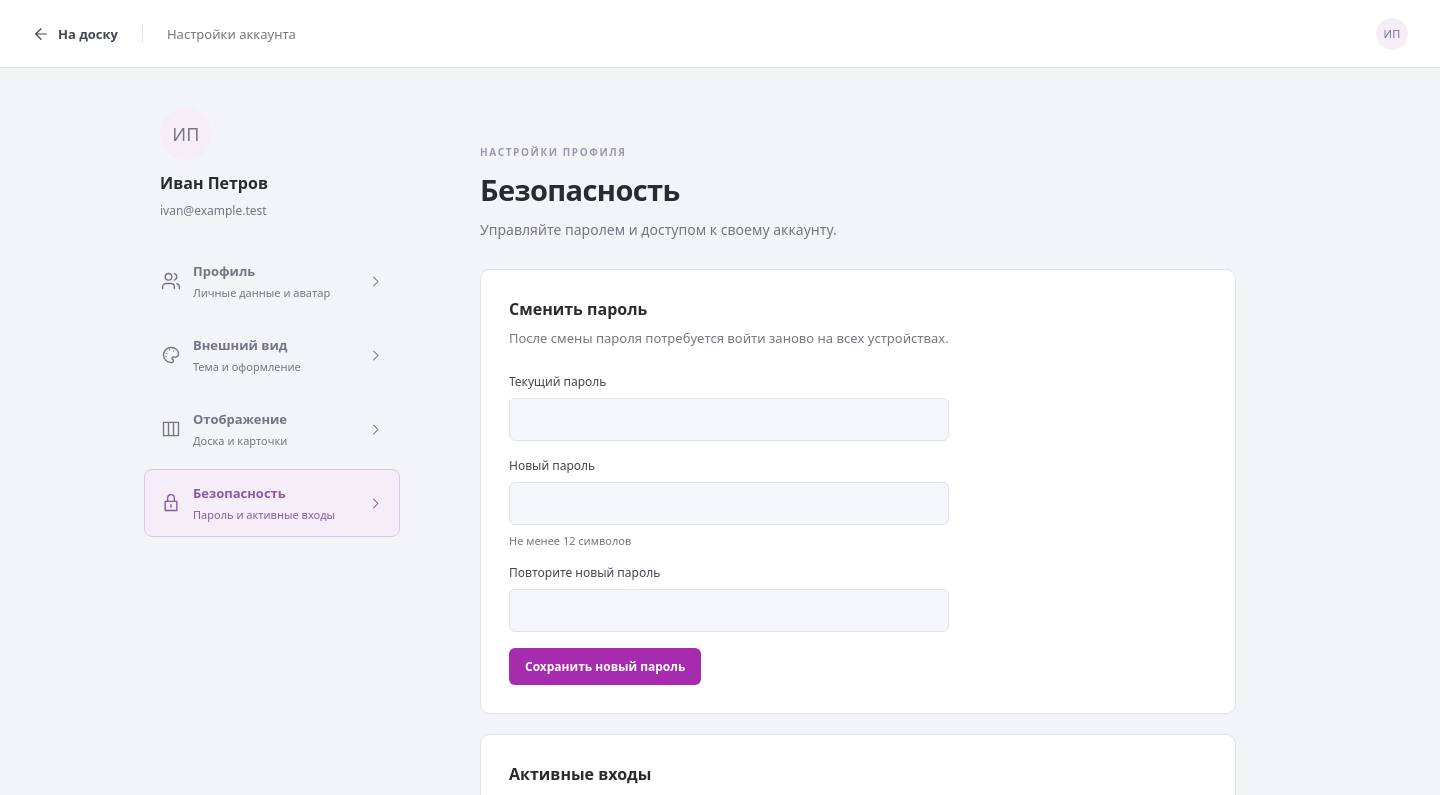
validates password confirmation before submitting the existing password API
The width and height of the screenshot is (1440, 795).
Type "current-password" into the password field labelled "Текущий пароль" at {"x": 729, "y": 420}, box [509, 398, 949, 441]
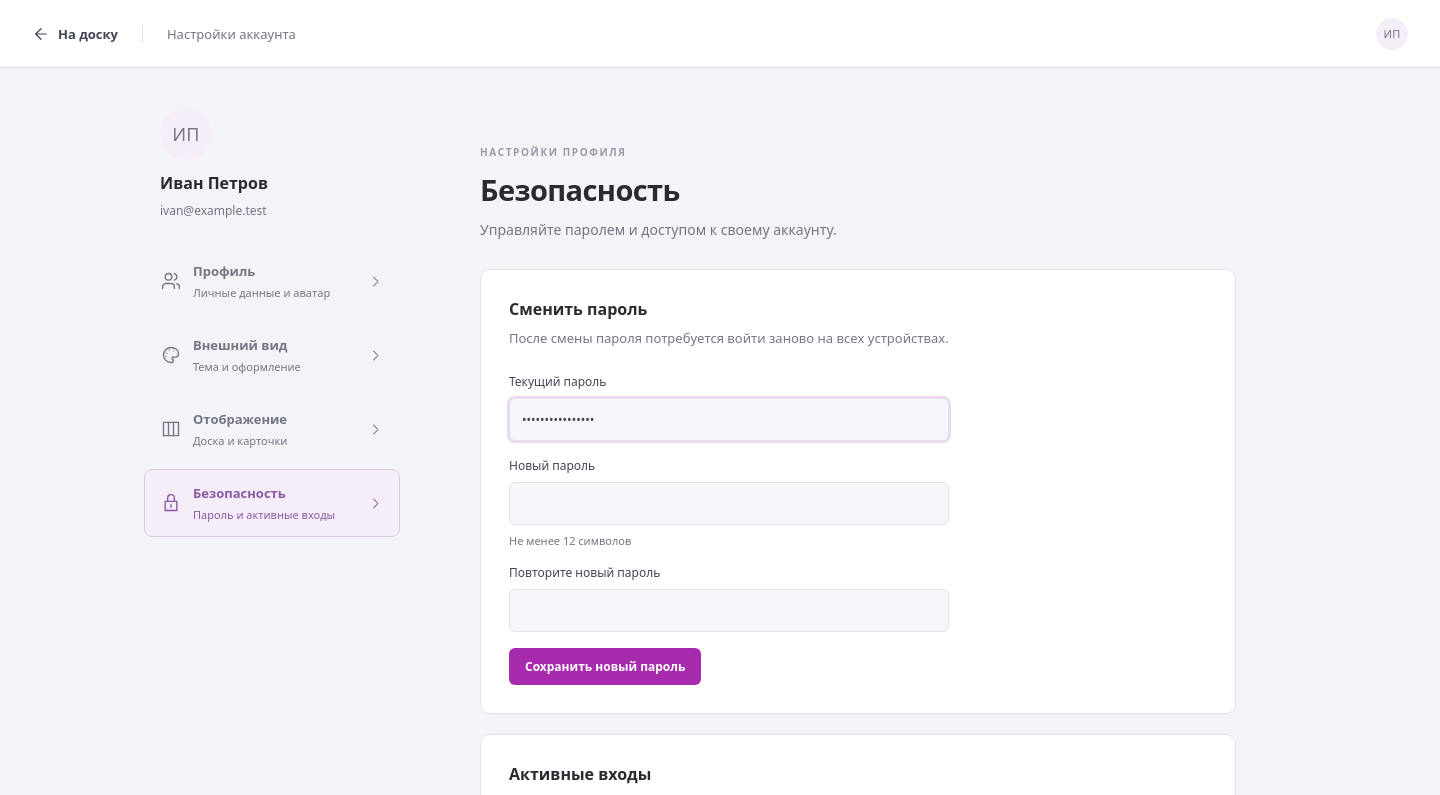
Type "new-password-123" into the password field labelled "Новый пароль" at {"x": 729, "y": 504}, box [509, 482, 949, 525]
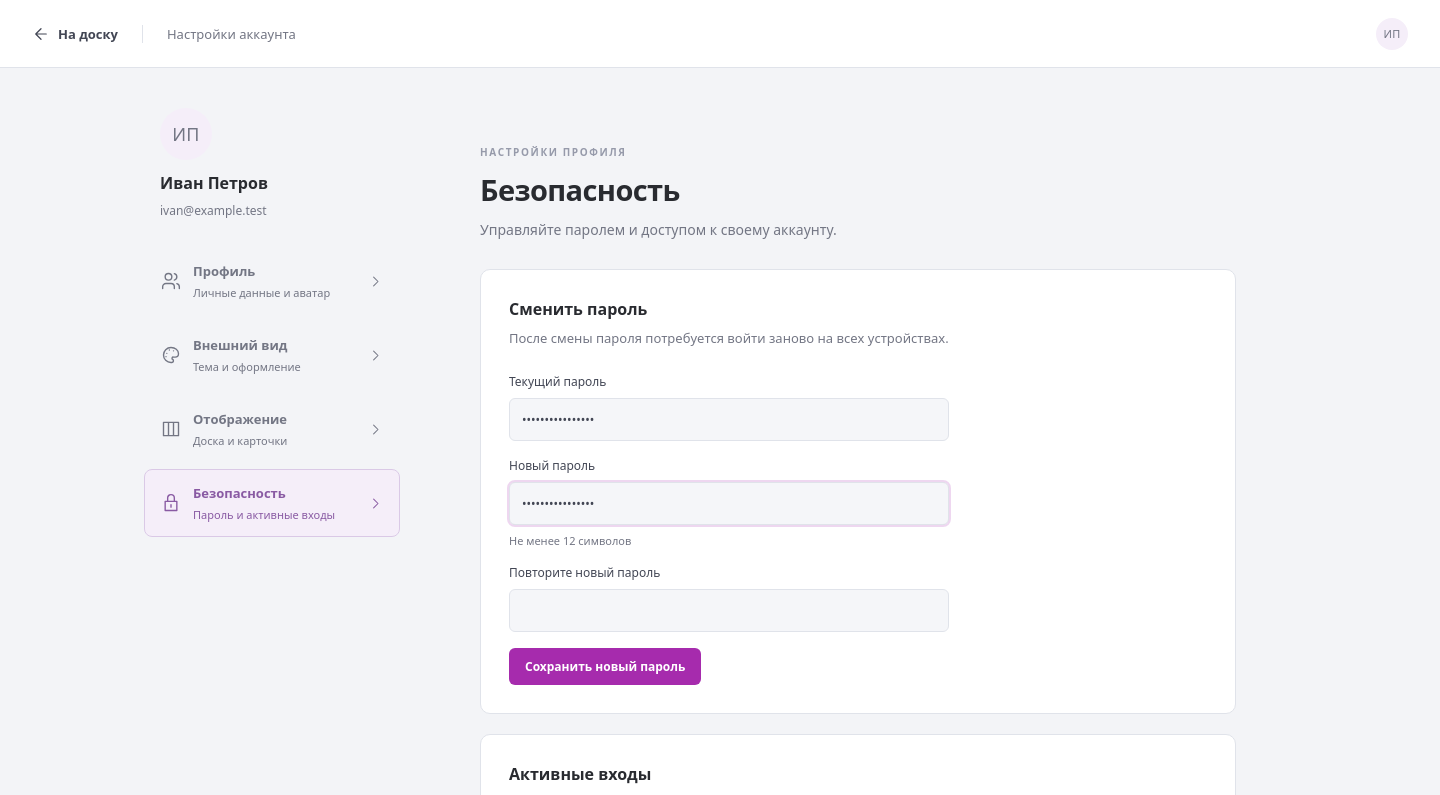
Type "different-password" into the password field labelled "Повторите новый пароль" at {"x": 729, "y": 611}, box [509, 589, 949, 632]
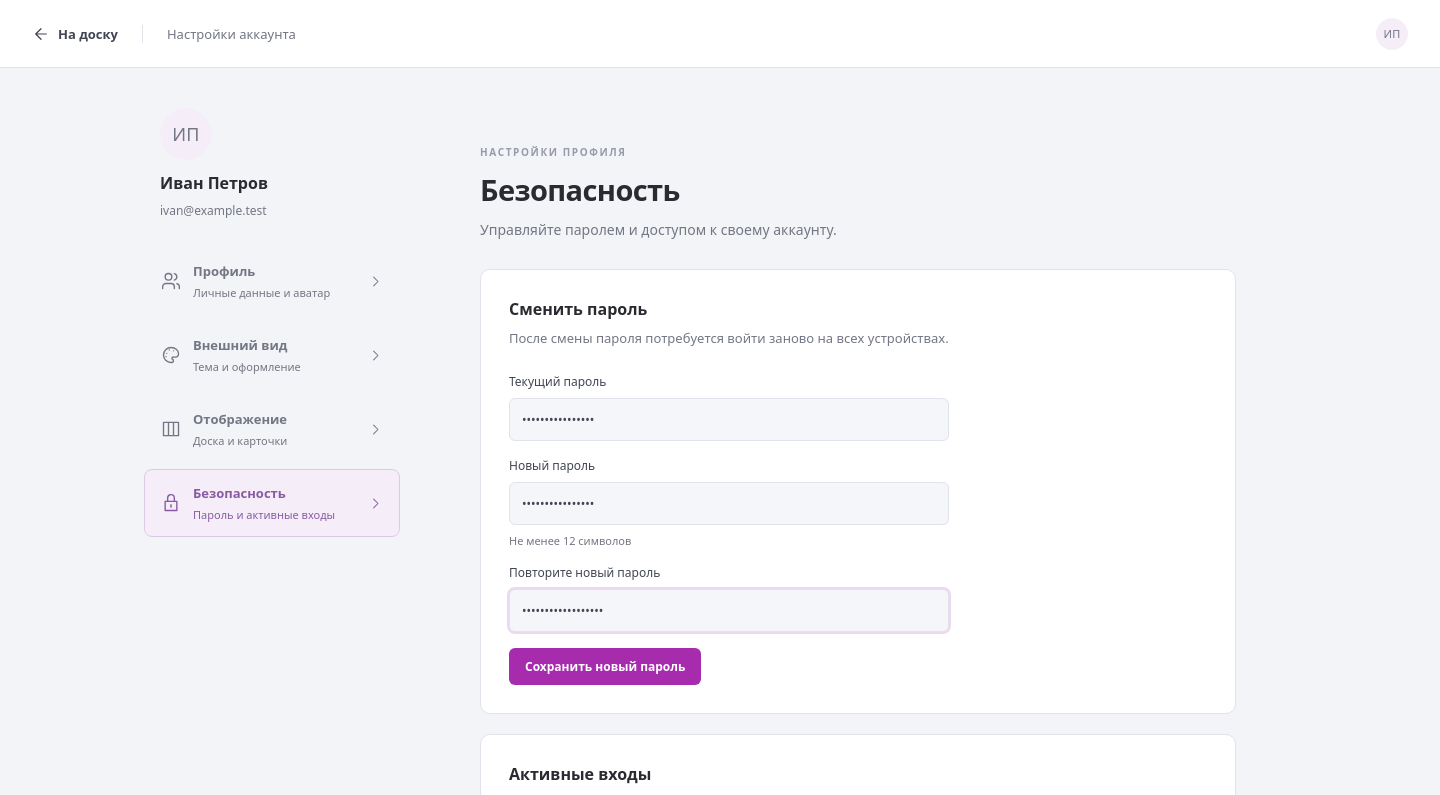
Click the button "Сохранить новый пароль" at {"x": 605, "y": 667}, box [509, 648, 701, 685]
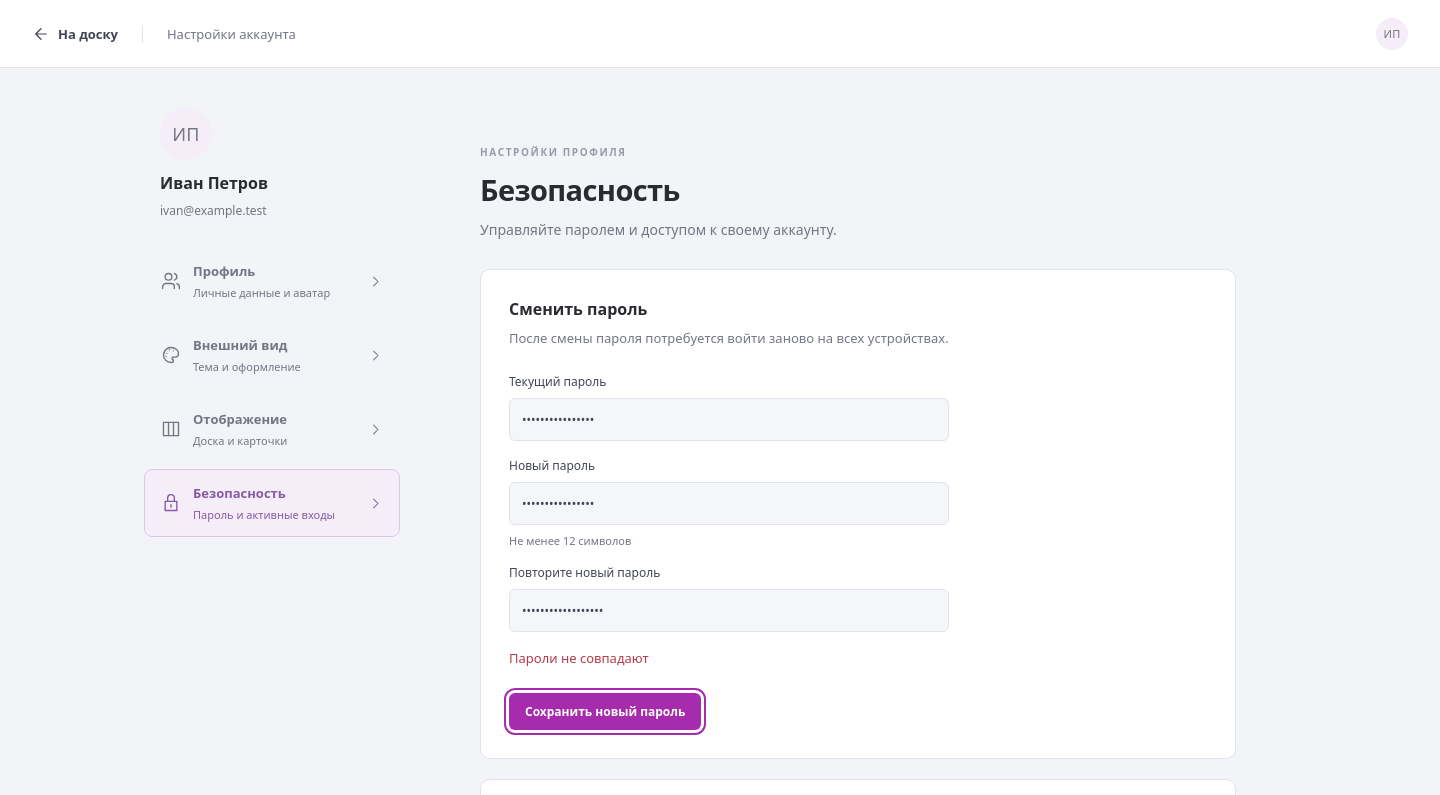
Result: the message reads "Пароли не совпадают" at [509, 649, 649, 667]
Type "new-password-123" into the password field labelled "Повторите новый пароль" at {"x": 729, "y": 611}, box [509, 589, 949, 632]
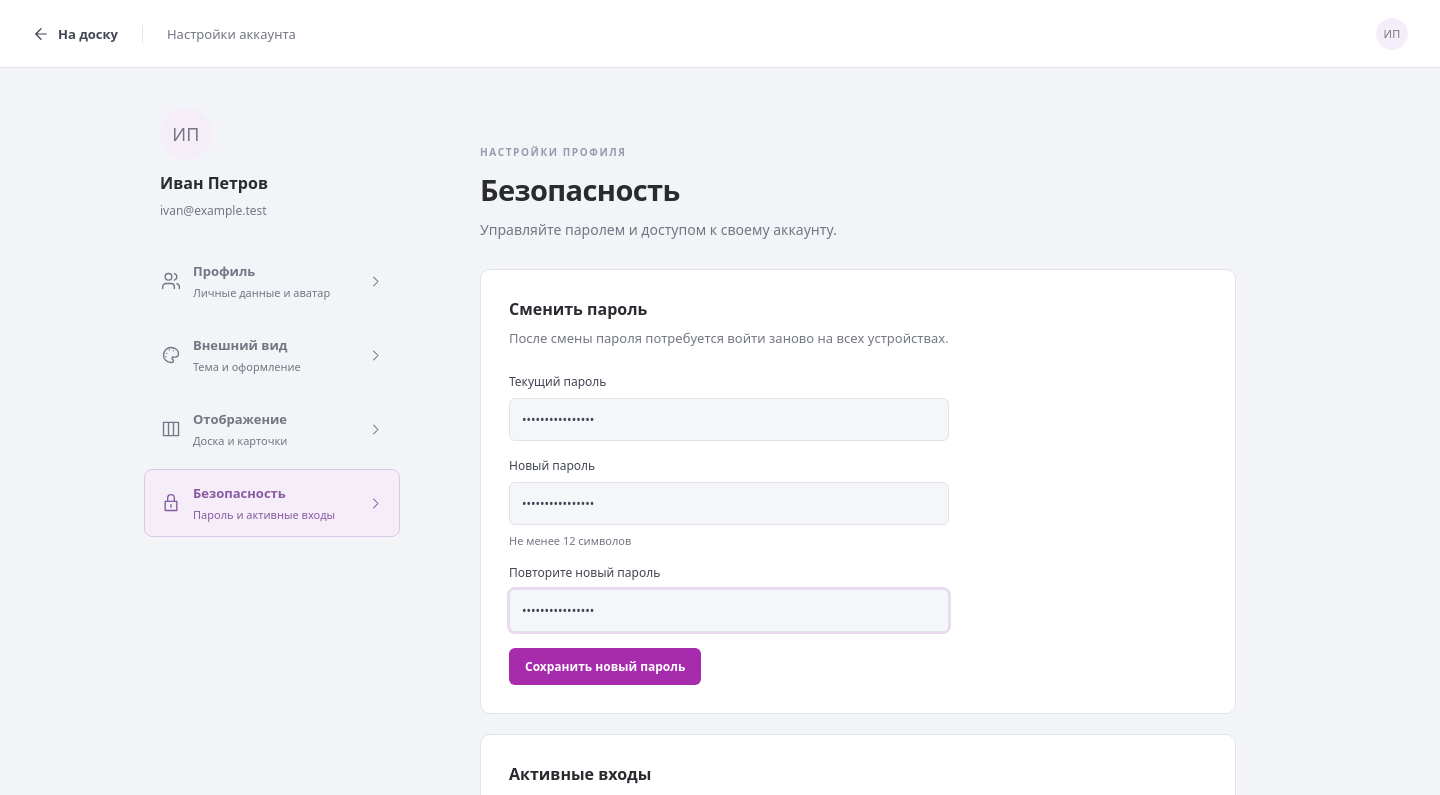
Click the button "Сохранить новый пароль" at {"x": 605, "y": 667}, box [509, 648, 701, 685]
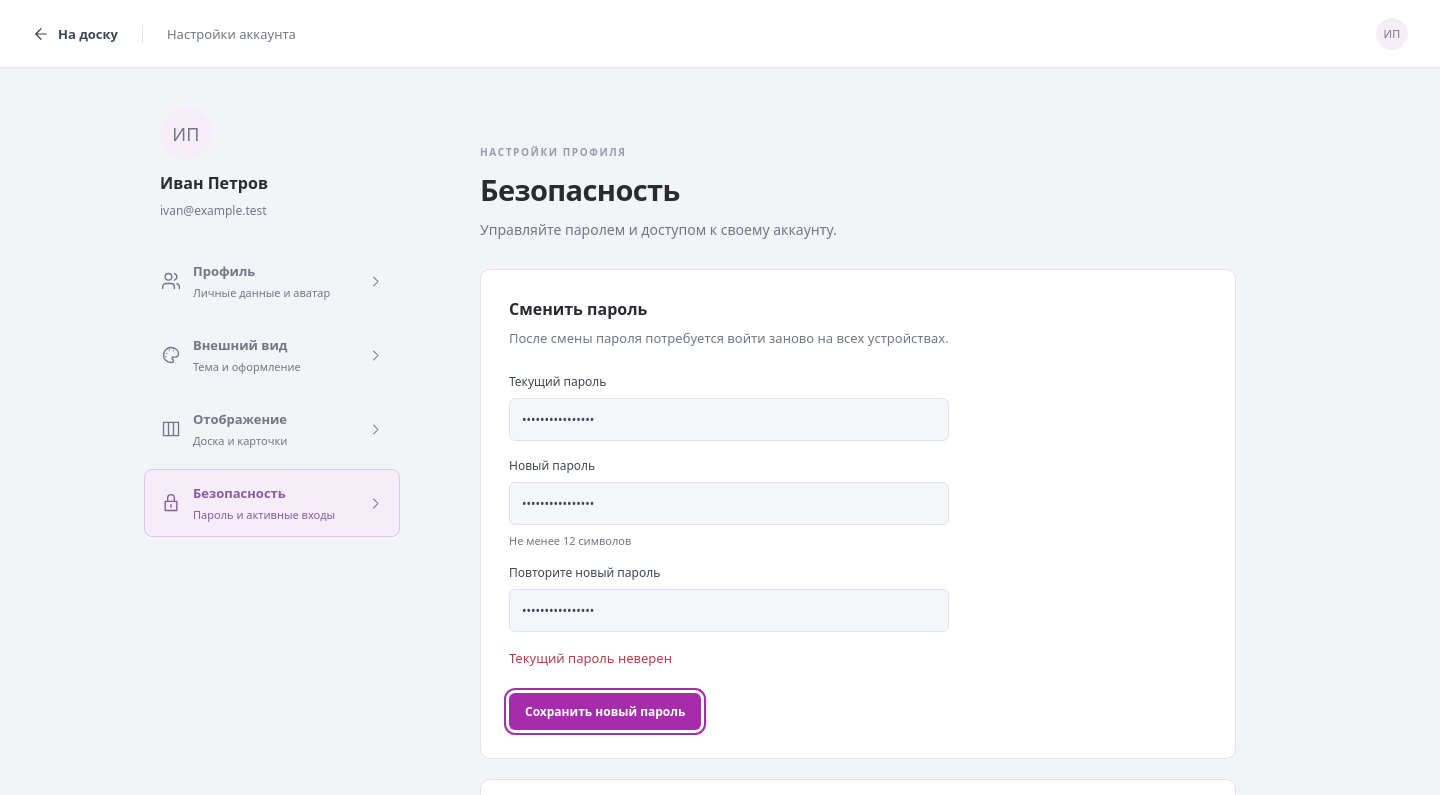
Result: the message reads "Текущий пароль неверен" at [509, 649, 672, 667]
